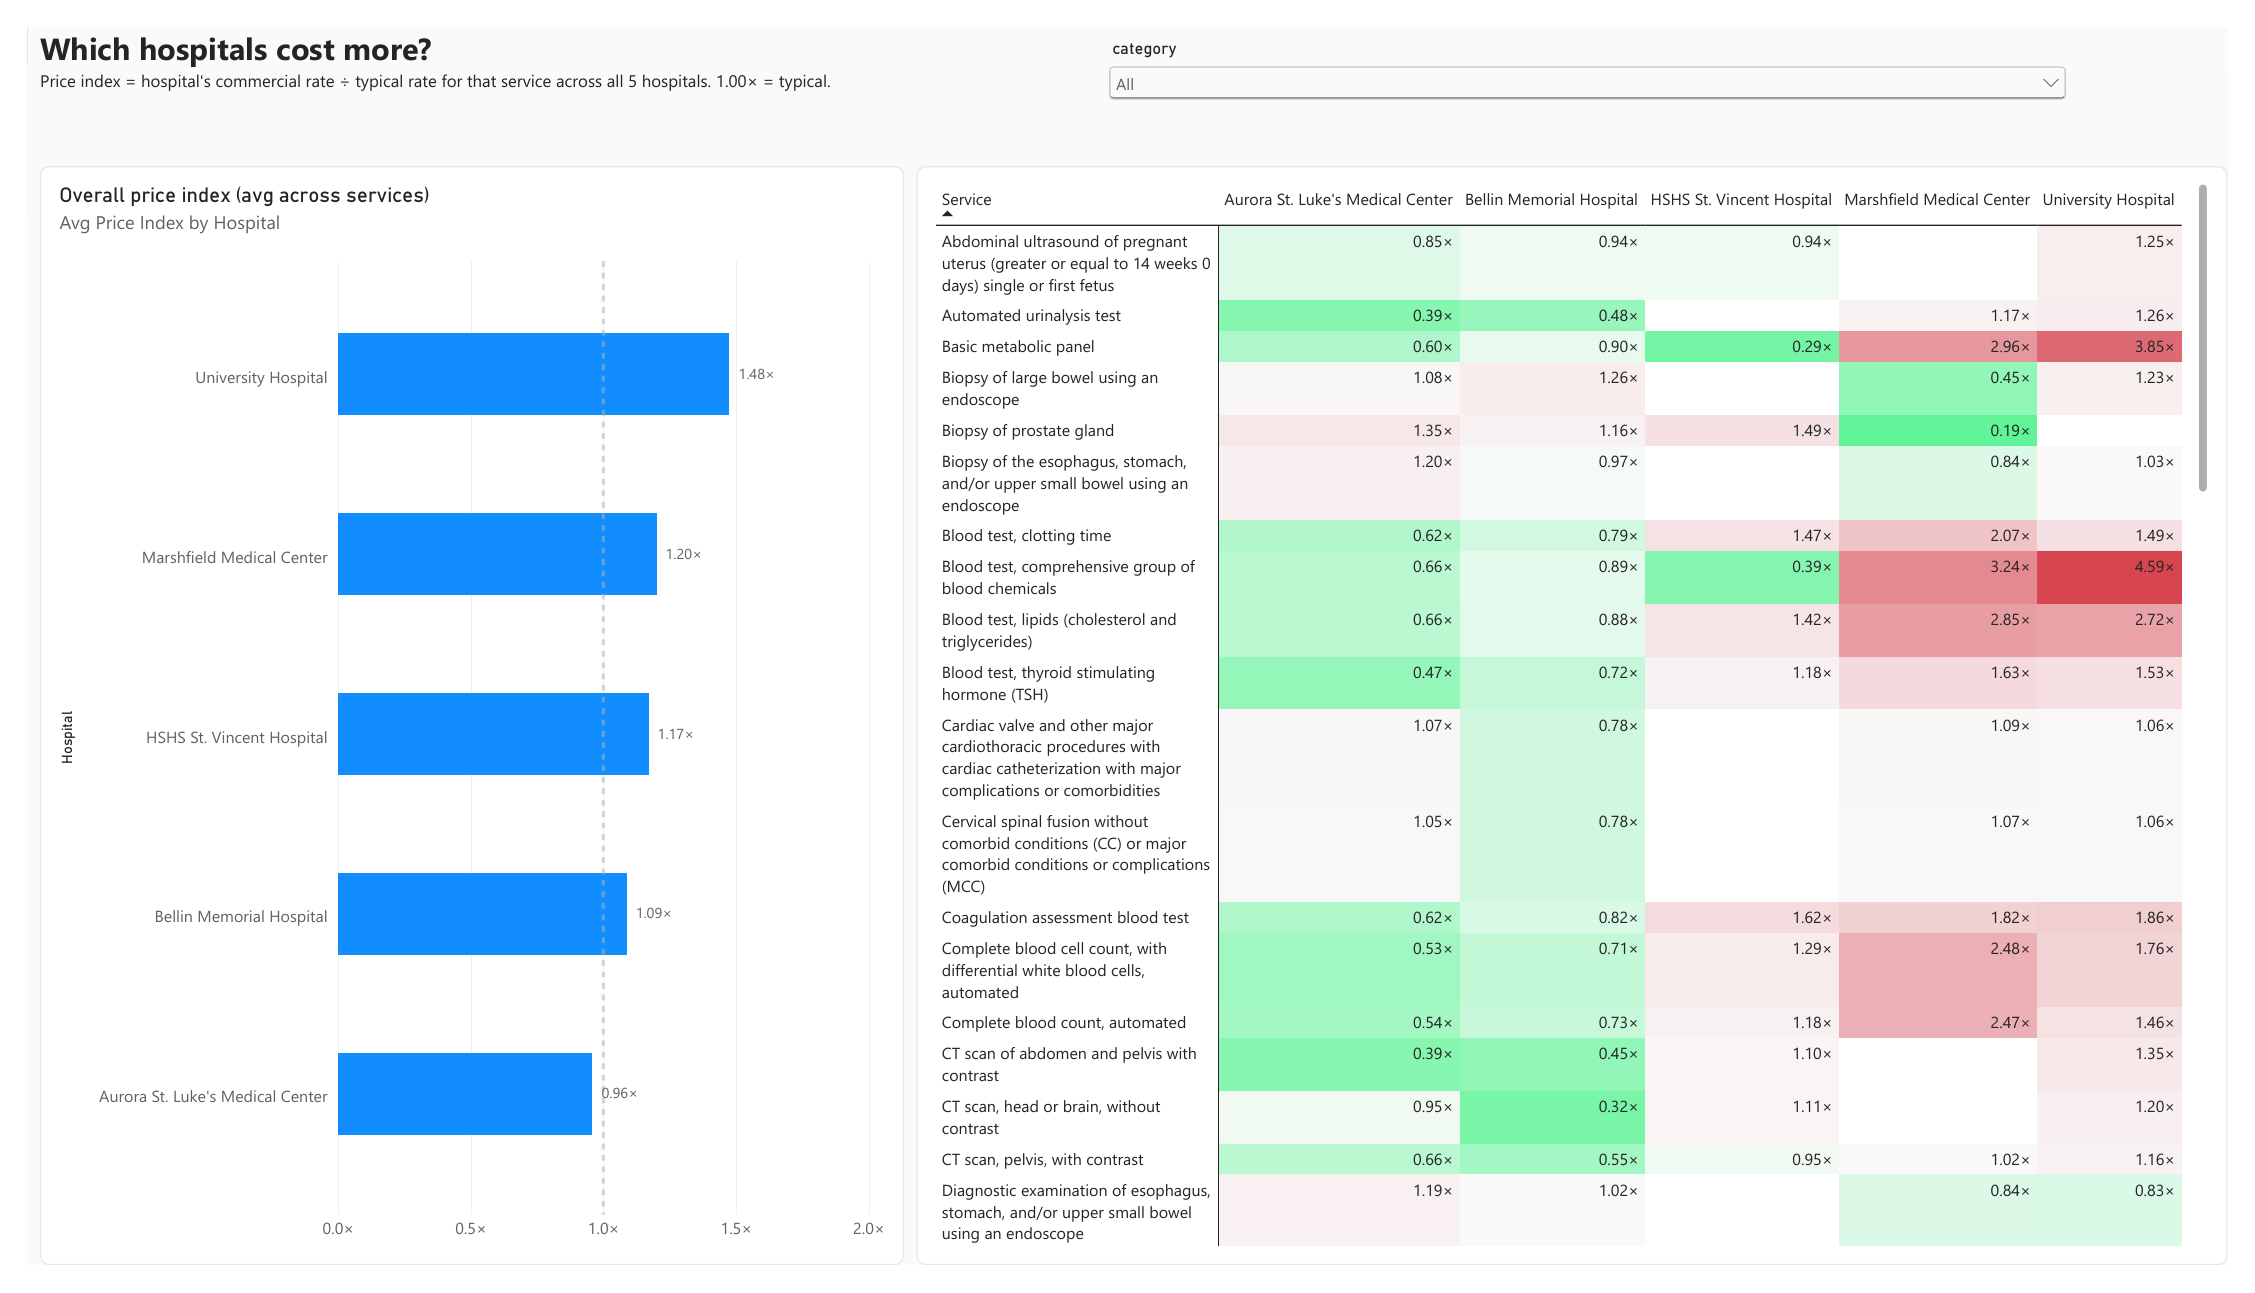

What the dashboard file says about the page in this screenshot:
{"tool":"powerbi","page":{"name":"Hospital Comparison","canvas":[1920,1080],"ordinal":1},"visuals":[{"type":"textbox","box":[10.7,0,844.7,241.3],"z":0},{"type":"slicer","fields":{"Values":["service.category"]},"box":[939.4,10.7,844.7,61.1],"z":1},{"type":"clusteredBarChart","title":"Overall price index (avg across services)","fields":{"Category":["hospital.hospital_name"],"Y":["Metrics.Avg Price Index"]},"box":[10.7,120.7,754.6,959.2],"z":2},{"type":"pivotTable","fields":{"Columns":["hospital.hospital_name"],"Rows":["service.service"],"Values":["Metrics.Price Index"]},"box":[775.9,120.7,1144.1,959.2],"z":3}]}

Visuals, with their boxes in screenshot pixels (x1, y1, x2, y2), scaled from the page's 1920x1080 canvas onto the 2255x1293 screenshot:
textbox: {"x1": 13, "y1": 0, "x2": 1005, "y2": 289}
slicer - service.category: {"x1": 1103, "y1": 13, "x2": 2095, "y2": 86}
"Overall price index (avg across services)" clusteredBarChart: {"x1": 13, "y1": 145, "x2": 899, "y2": 1292}
pivotTable - hospital.hospital_name x service.service: {"x1": 911, "y1": 145, "x2": 2254, "y2": 1292}
